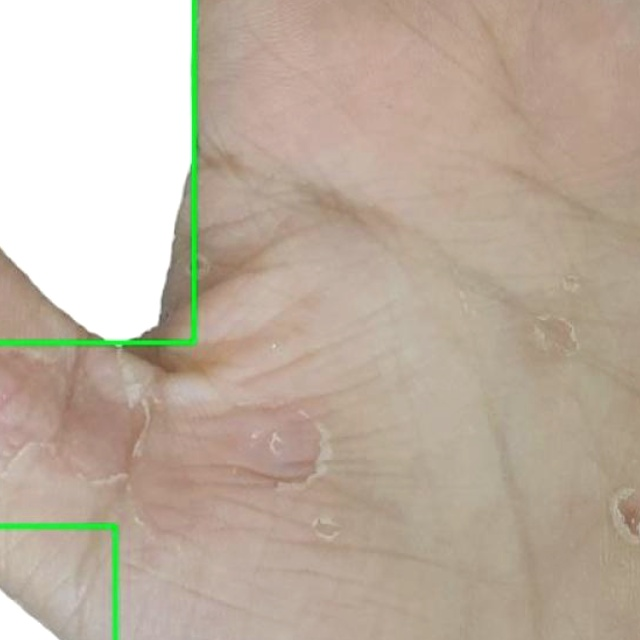Scabies: (0, 0, 194, 342)
